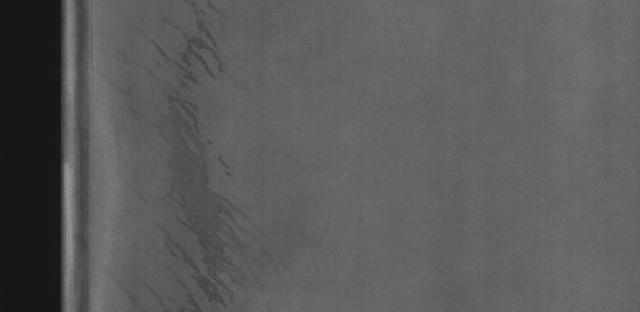water_spot: (132, 5, 257, 312)
